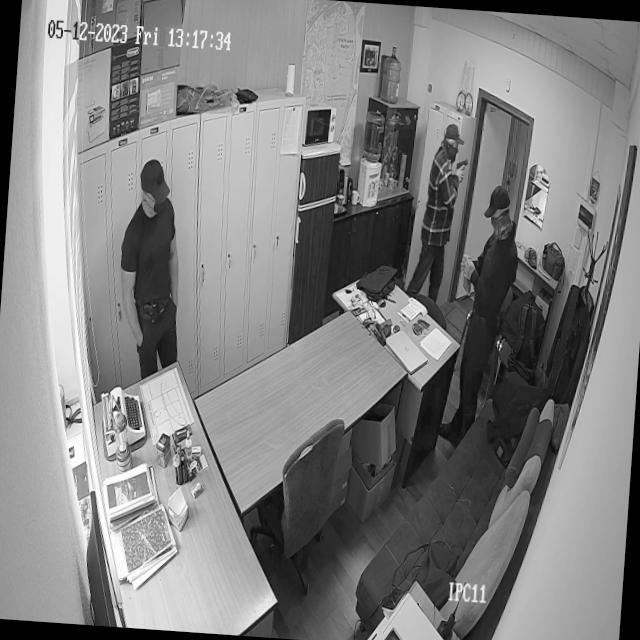gun: (454, 158, 468, 174)
person: (110, 152, 192, 379), (453, 174, 524, 421)
person with a gun: (418, 117, 470, 296)
